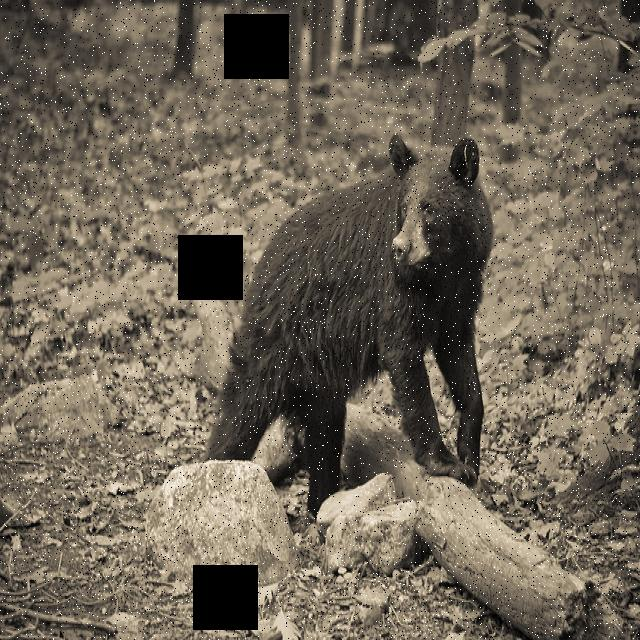Bear: (222, 138, 518, 502)
